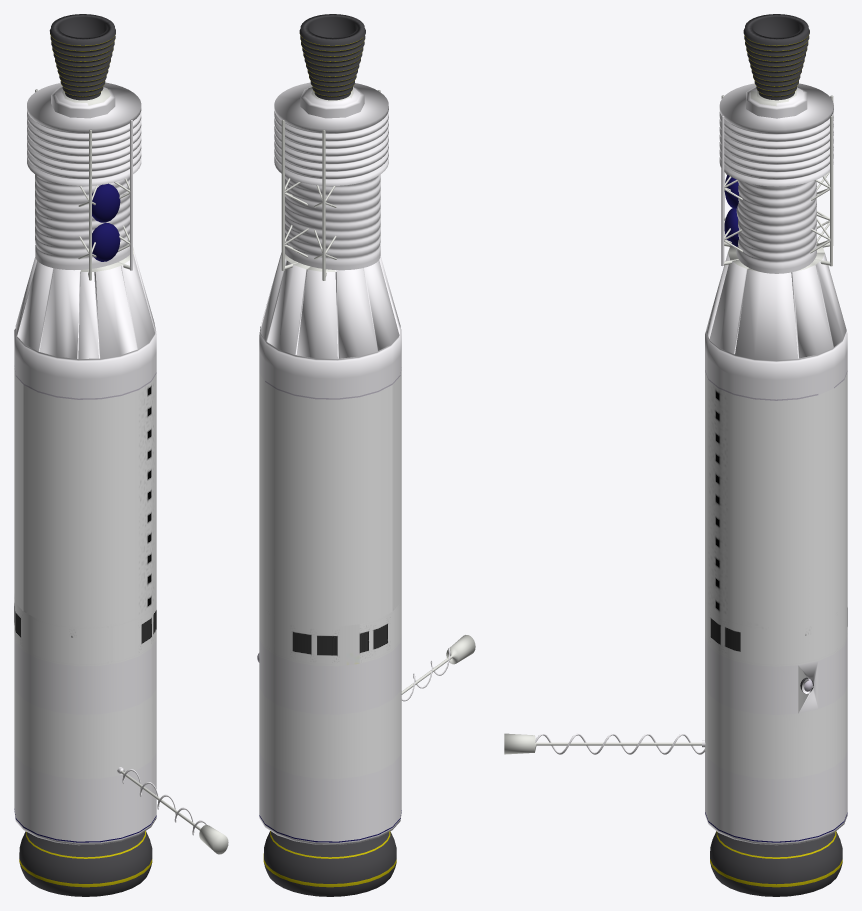
The model's file is agena-craft.glb.
3 renders of one model, left to right at view 1: azimuth 30°, elevation 25°; view 2: azimuth 150°, elevation 25°; view 3: azimuth 270°, elevation 25°, orthographic.
Parts seen in each view (by area): view 1: craft; view 2: craft; view 3: craft.
Part boxes in pixels (box(x1,y1,x2,y2)): craft: box(14, 14, 228, 896); craft: box(257, 14, 475, 896); craft: box(504, 14, 847, 896).
Bounding box in the file's own units: 1.5 × 9.75 × 3.61.
Materials: 1 (1 with a texture image).
